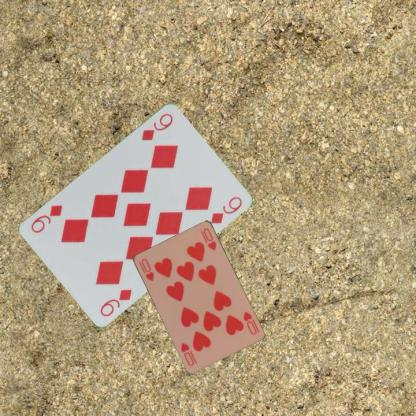10h: (240, 309, 260, 336), (136, 256, 155, 282)
9d: (97, 286, 134, 318), (138, 110, 174, 141)
